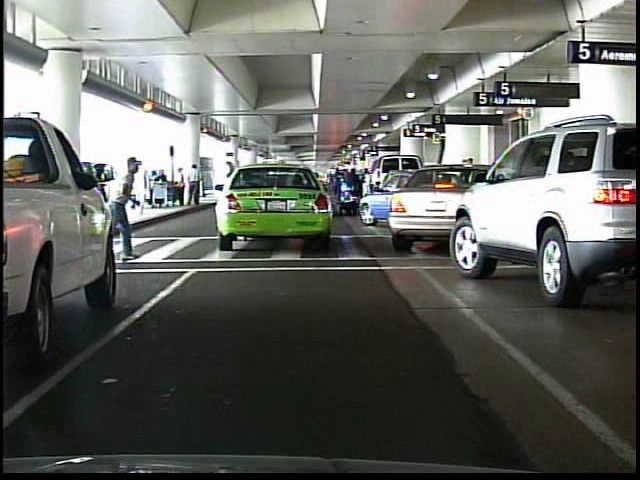person: (115, 150, 167, 269)
